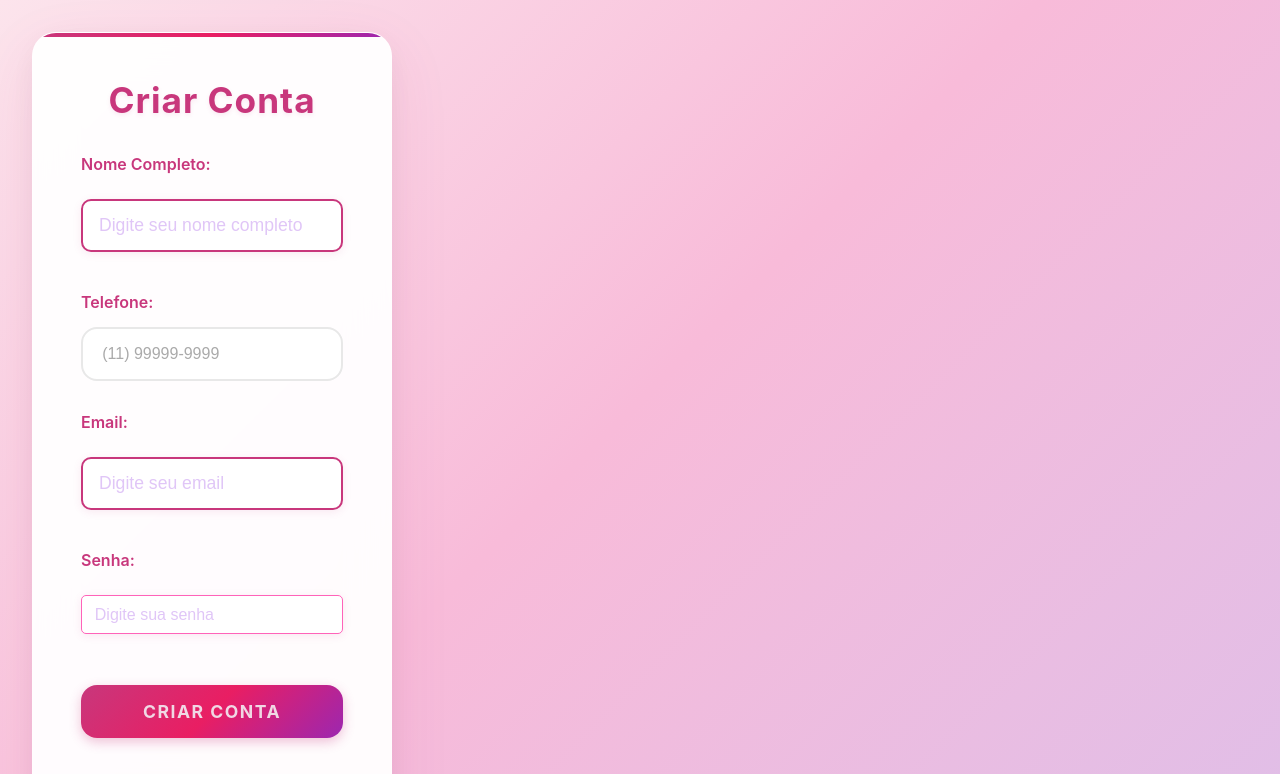
Scenario: deve exibir erro quando API retorna erro
The width and height of the screenshot is (1280, 774).
Type "João Silva" into the field labelled "Nome Completo:". click: (212, 225)
box: [81,198,343,252]
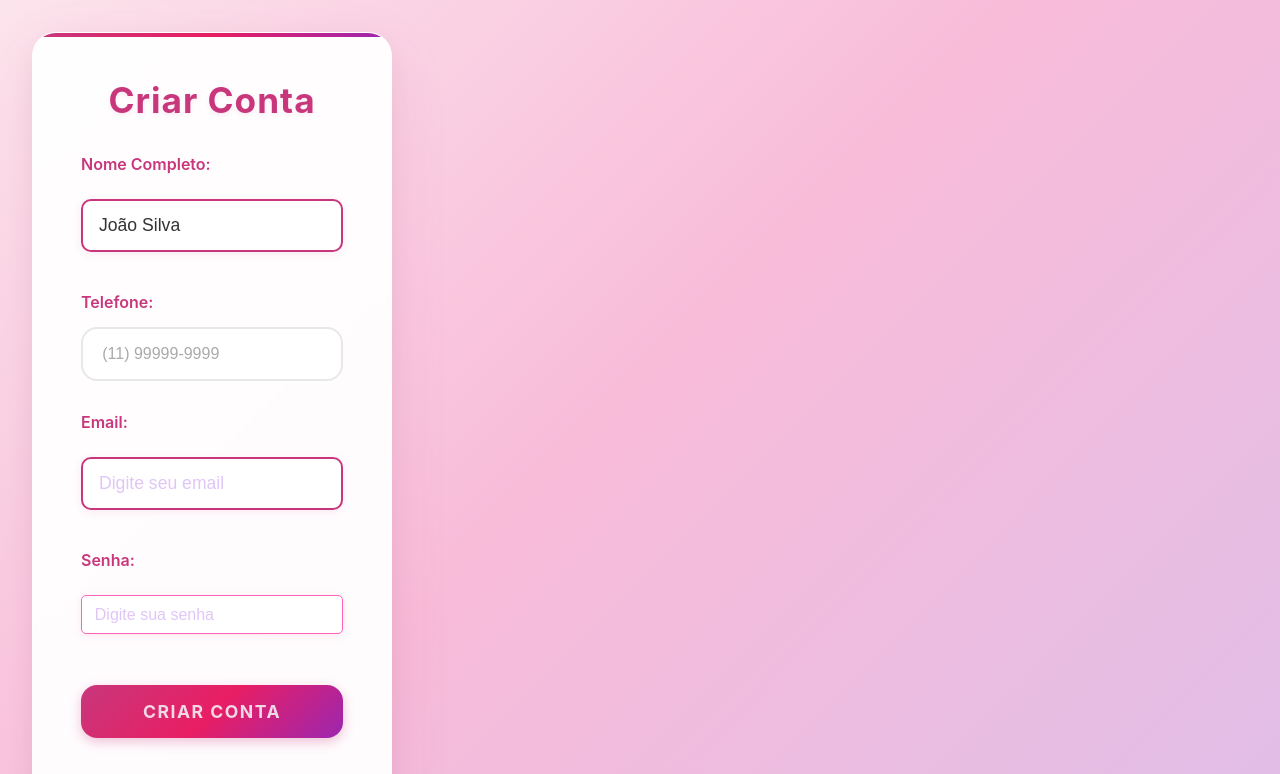
Type "joao@teste.com" into the field labelled "Email:". click: (212, 483)
box: [81,457,343,510]
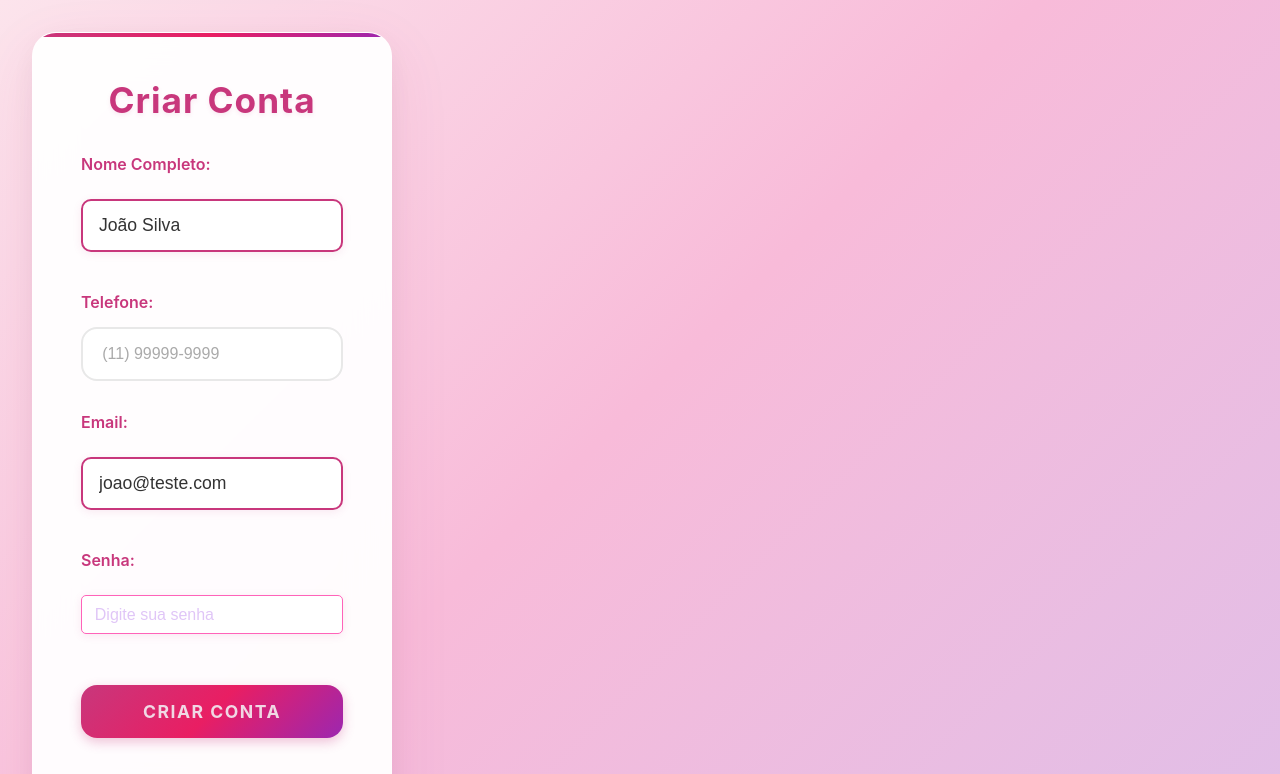
Type "11999999999" into the field labelled "Telefone:". click: (212, 354)
box: [81,327,343,381]
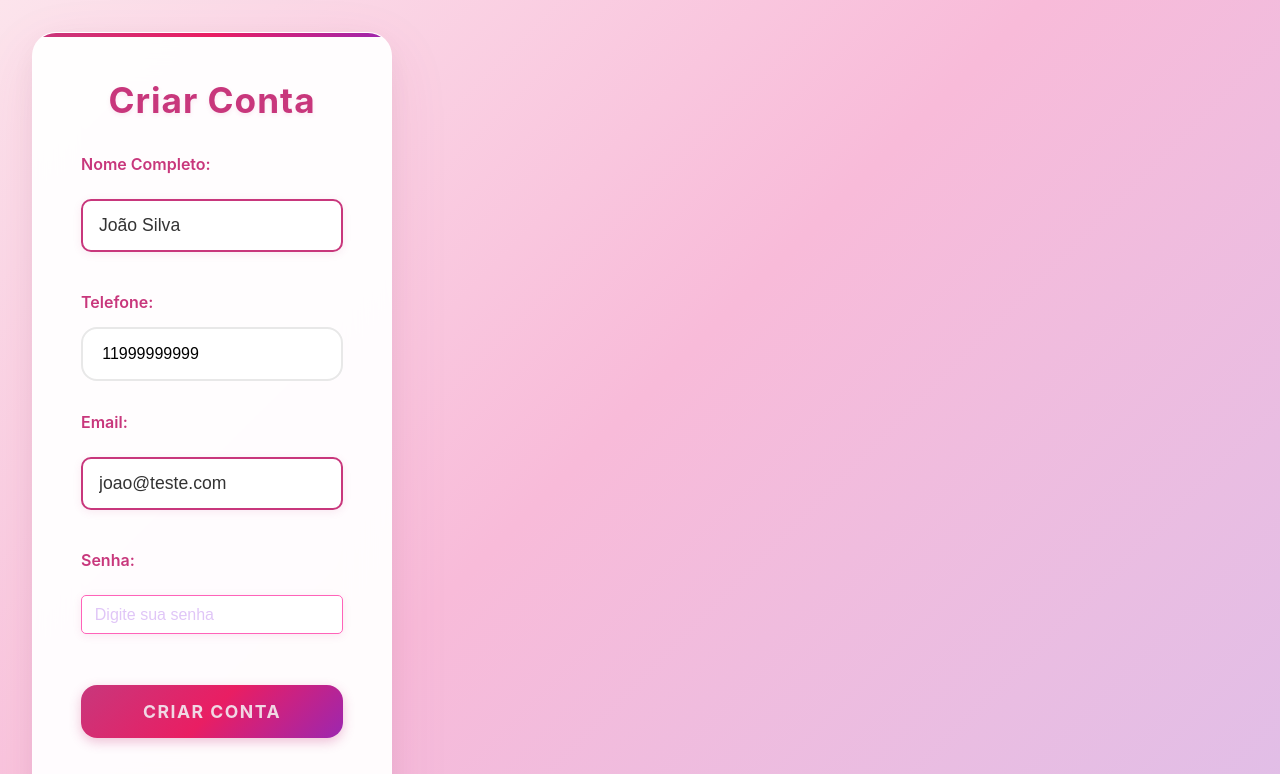
Type "senha123" into the password field labelled "Senha:". click: (212, 615)
box: [81,595,343,634]
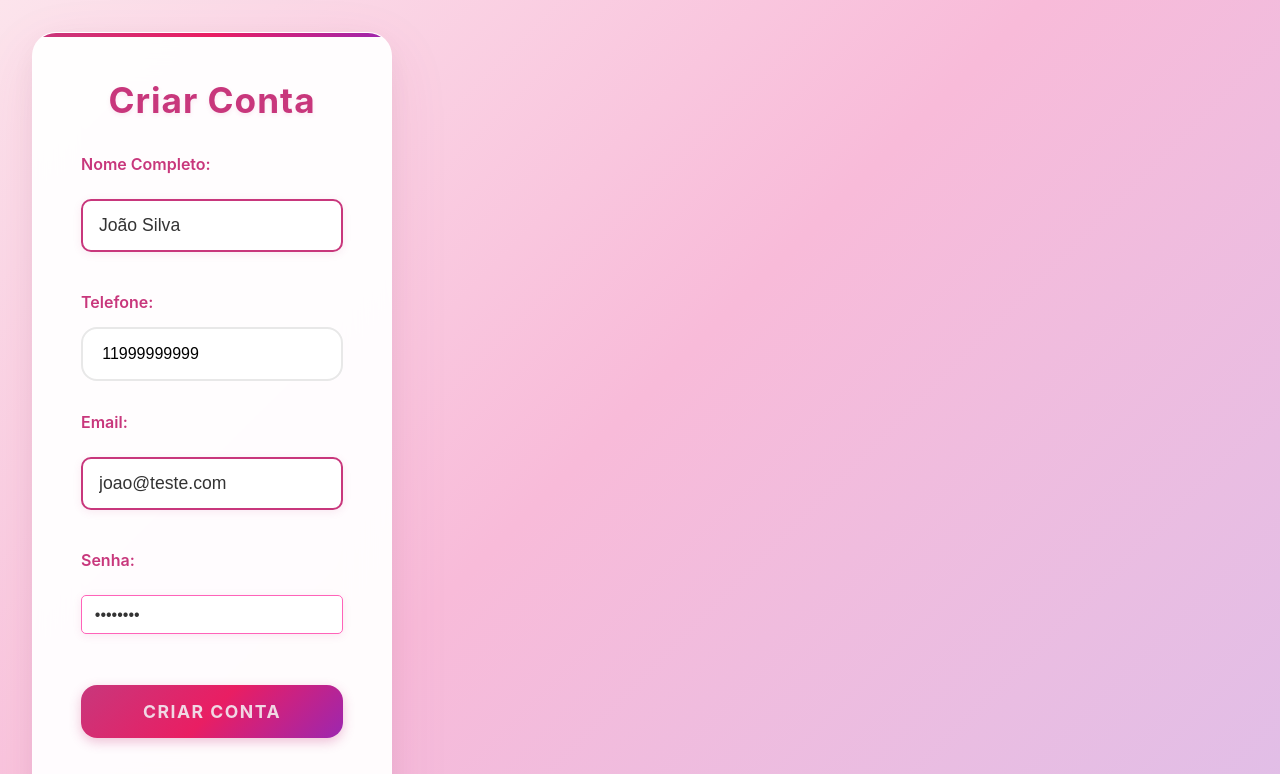
Click the button "Criar Conta". click: (212, 712)
box: [81,685,343,738]
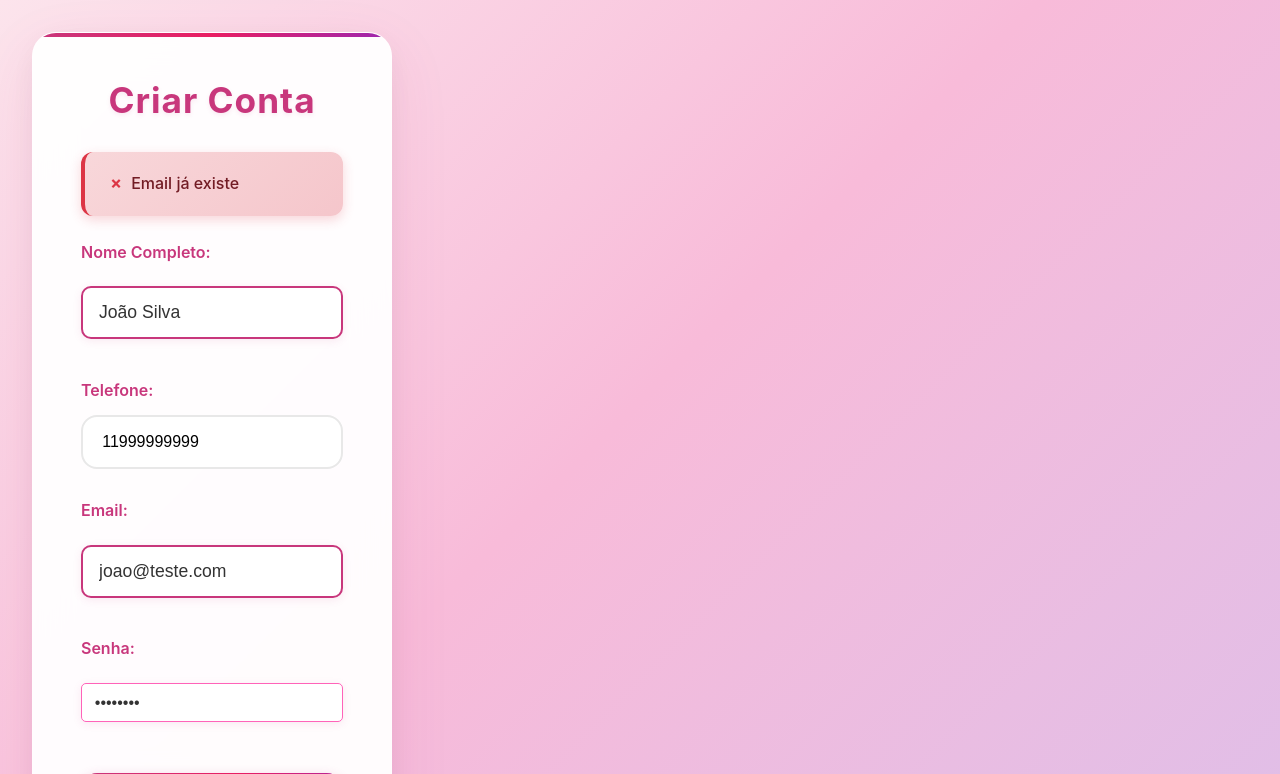
expect the text "Email já existe" is shown: met, box [81,152,343,216]
